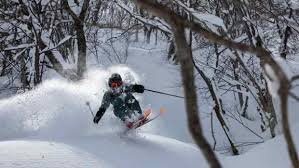skis: (116, 105, 171, 134)
